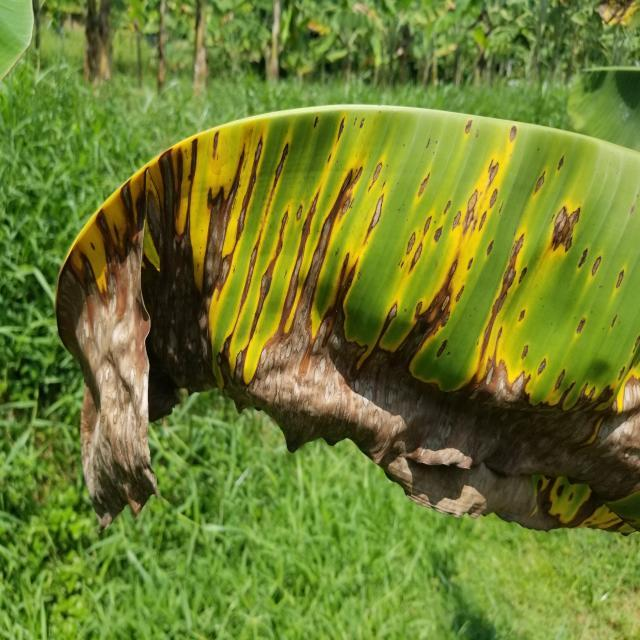Early_rust: (36, 30, 640, 537)
